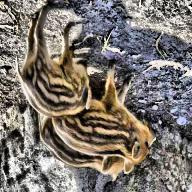boar: (45, 61, 171, 162), (8, 2, 104, 119)
